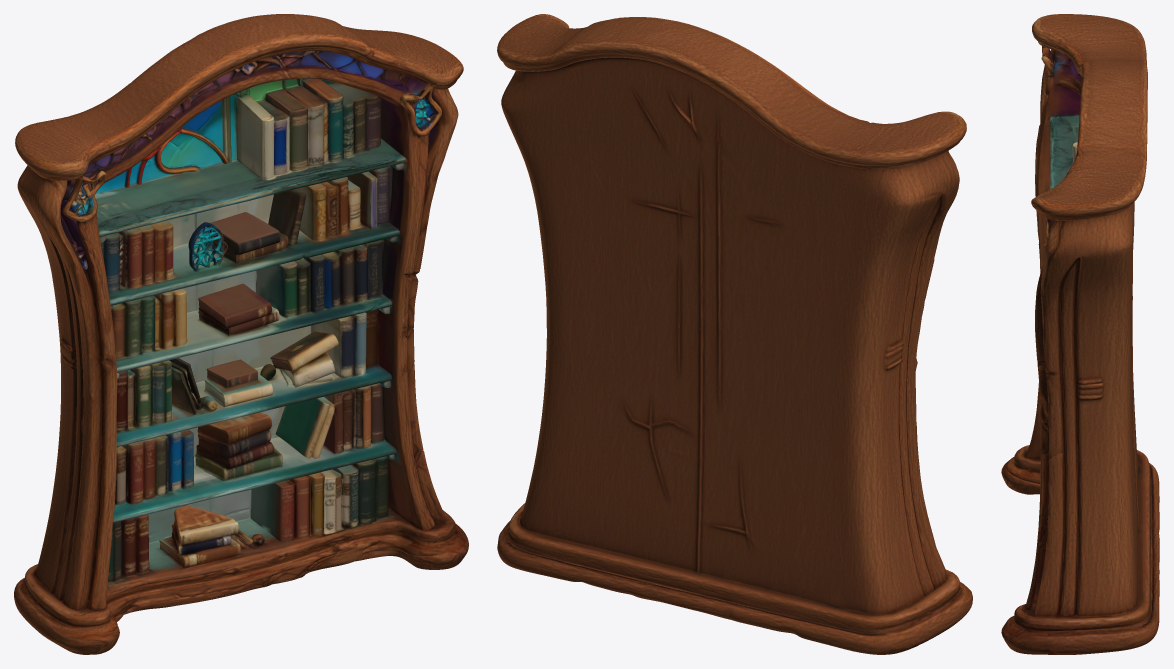
The model's file is ornate-bookshelf.glb.
The picture shows the model from 3 angles, left to right: view 1: azimuth 30°, elevation 25°; view 2: azimuth 150°, elevation 25°; view 3: azimuth 270°, elevation 25°; orthographic projection. The views are drawn at different scales.
Parts seen in each view (by area): view 1: tripo_node_07176b1b-8133-4658-a752-f5713086f84a; view 2: tripo_node_07176b1b-8133-4658-a752-f5713086f84a; view 3: tripo_node_07176b1b-8133-4658-a752-f5713086f84a.
Boxes of the visible parts, box(x1,y1,x2,y2) form: tripo_node_07176b1b-8133-4658-a752-f5713086f84a: box(14, 14, 468, 654); tripo_node_07176b1b-8133-4658-a752-f5713086f84a: box(497, 14, 972, 654); tripo_node_07176b1b-8133-4658-a752-f5713086f84a: box(1001, 14, 1159, 654).
Size of the model in its own units: 0.8162 by 0.9795 by 0.2784.
1 material, 1 textured.
